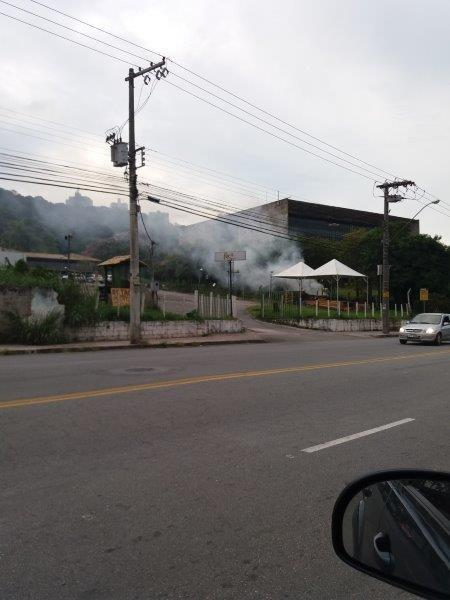smoke: (221, 231, 271, 284)
